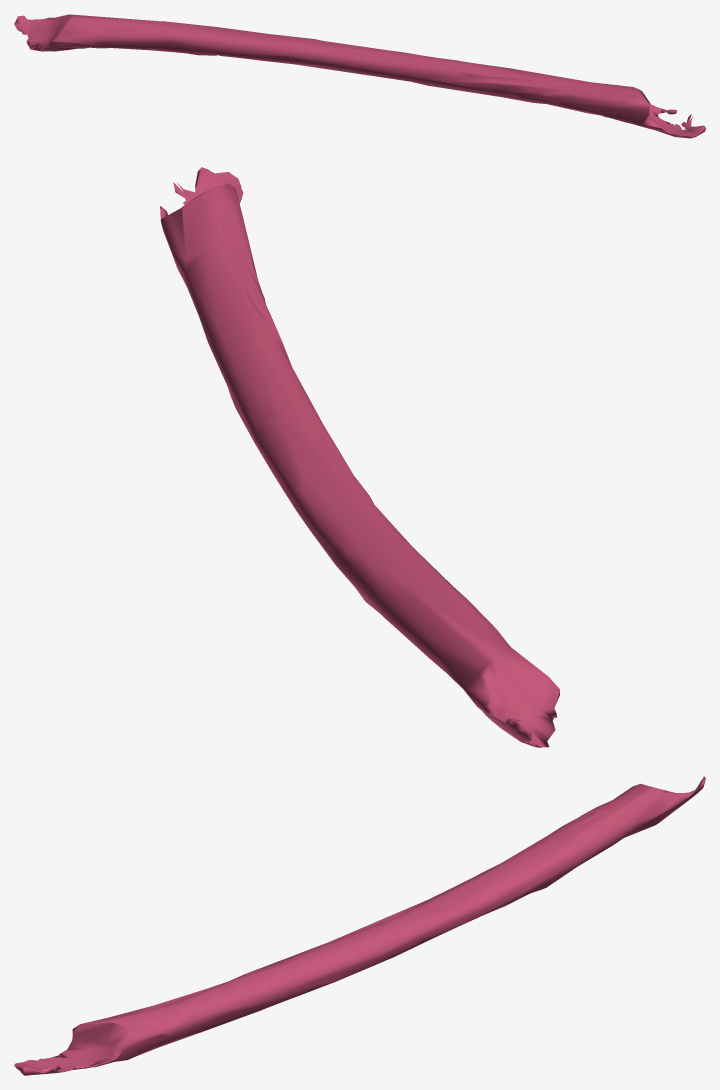
3 renders of one model, top to bottom at view 1: azimuth 30°, elevation 25°; view 2: azimuth 150°, elevation 25°; view 3: azimuth 270°, elevation 25°, orthographic. The views are drawn at different scales.
Parts seen in each view (by area): view 1: 左侧腹股沟韧带; view 2: 左侧腹股沟韧带; view 3: 左侧腹股沟韧带.
Part boxes in pixels (bbox=[...]): 左侧腹股沟韧带: bbox=[14, 14, 705, 138]; 左侧腹股沟韧带: bbox=[160, 167, 559, 747]; 左侧腹股沟韧带: bbox=[14, 776, 705, 1075].
Size of the model in its own units: 0.154 by 0.0137 by 0.1668.
